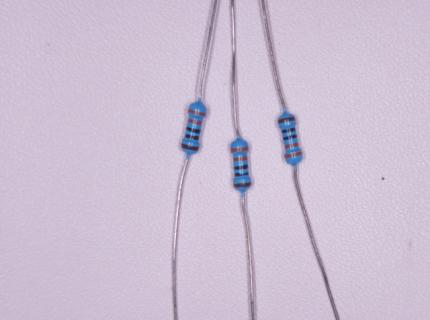Black band: (186, 127, 201, 134), (282, 127, 295, 134), (185, 134, 199, 140), (234, 164, 248, 170), (283, 134, 297, 140), (235, 172, 248, 176)
Brown band: (182, 143, 199, 151), (278, 117, 295, 123), (234, 182, 251, 187)
Orange band: (285, 151, 301, 159), (188, 110, 206, 116), (285, 142, 299, 149), (231, 147, 248, 152), (188, 119, 202, 125), (234, 156, 247, 161)
